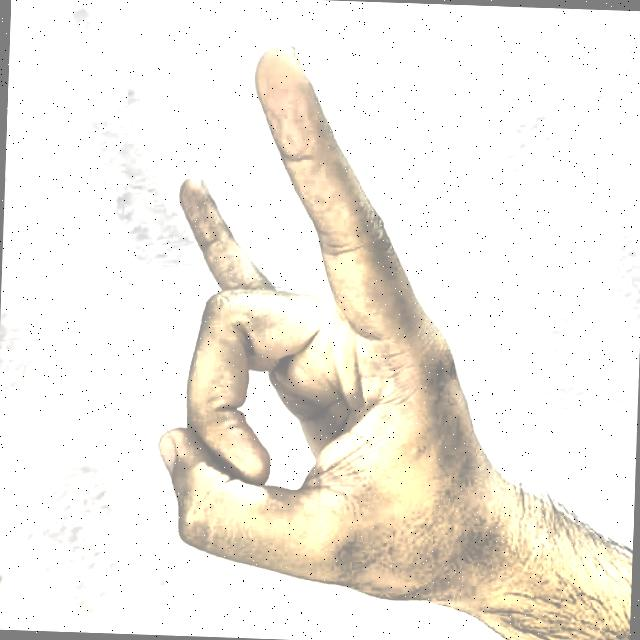Cha: (110, 18, 531, 640)
